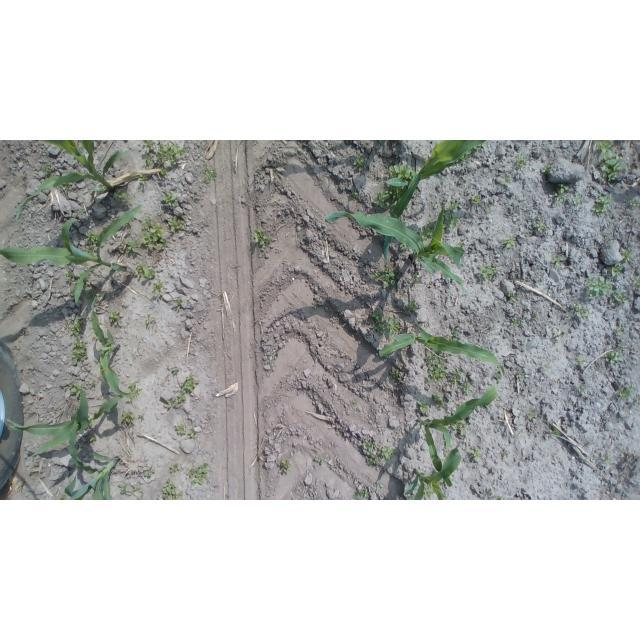Maize: (0, 205, 144, 304), (322, 203, 466, 293), (383, 140, 487, 264), (15, 141, 133, 222), (417, 383, 499, 486), (8, 389, 125, 459), (379, 325, 507, 379), (94, 297, 139, 398), (67, 419, 120, 500), (403, 449, 461, 500)
Weeds: (372, 186, 408, 211), (69, 316, 87, 365), (141, 218, 167, 251), (424, 349, 448, 384), (599, 152, 625, 184), (370, 310, 401, 336), (177, 372, 199, 404), (156, 143, 185, 166), (373, 264, 400, 288), (585, 275, 612, 297), (389, 165, 419, 180), (134, 261, 156, 281), (592, 196, 612, 217), (252, 227, 272, 248), (189, 463, 208, 485), (449, 419, 469, 437), (164, 484, 185, 501), (418, 220, 435, 241), (201, 164, 217, 185), (161, 192, 180, 209), (573, 300, 589, 320), (480, 264, 498, 281), (108, 310, 125, 328), (609, 289, 628, 305), (68, 380, 83, 400), (446, 367, 462, 385), (86, 289, 102, 307), (120, 412, 144, 424), (168, 216, 184, 233), (124, 238, 141, 254), (555, 184, 569, 203), (444, 215, 461, 230), (516, 152, 528, 173), (378, 445, 396, 459), (605, 352, 624, 365), (595, 140, 615, 152), (607, 263, 624, 277), (432, 393, 446, 409), (362, 438, 376, 454), (617, 386, 633, 400), (140, 141, 157, 154), (502, 235, 517, 249), (114, 190, 129, 204), (352, 489, 370, 500), (152, 281, 165, 296), (444, 202, 460, 214), (417, 400, 430, 414), (128, 381, 142, 394), (423, 484, 435, 499), (460, 381, 473, 394), (405, 301, 418, 314), (119, 484, 132, 497), (449, 328, 462, 341), (552, 254, 564, 268), (86, 232, 100, 244), (280, 460, 292, 473), (471, 447, 482, 461), (622, 249, 633, 263), (354, 157, 365, 171), (554, 328, 567, 339), (384, 152, 395, 165), (143, 155, 153, 169), (388, 371, 403, 380), (457, 154, 471, 163), (137, 175, 148, 186), (65, 268, 72, 285), (69, 284, 78, 297), (541, 164, 551, 175), (535, 221, 545, 232), (167, 397, 178, 407), (176, 424, 186, 435), (84, 246, 94, 257), (549, 427, 559, 438), (495, 371, 504, 383), (368, 456, 380, 465), (576, 355, 584, 368), (501, 175, 511, 185), (413, 272, 422, 283), (170, 464, 181, 473), (161, 168, 170, 179), (632, 276, 640, 288), (471, 196, 481, 205), (511, 318, 521, 327), (507, 292, 517, 301), (86, 436, 96, 445), (629, 199, 640, 207), (44, 164, 52, 175), (315, 456, 324, 465), (603, 456, 612, 465), (171, 300, 182, 307), (616, 328, 624, 337), (375, 482, 384, 490), (528, 412, 536, 421), (517, 371, 526, 379), (77, 271, 84, 281), (63, 182, 70, 192), (145, 317, 155, 324), (574, 196, 582, 204), (133, 484, 141, 492), (88, 380, 96, 388), (188, 429, 195, 437), (355, 317, 362, 325), (352, 400, 360, 407), (144, 471, 153, 477), (86, 276, 92, 285), (469, 148, 478, 154), (351, 191, 358, 198), (493, 496, 505, 500), (618, 343, 625, 349), (544, 365, 551, 371), (401, 243, 408, 249), (80, 140, 85, 148), (127, 396, 133, 402), (172, 368, 177, 375), (533, 312, 541, 316), (604, 235, 609, 241), (565, 312, 571, 317), (58, 496, 64, 501), (580, 388, 585, 394), (487, 208, 492, 214), (475, 144, 482, 148), (482, 141, 486, 148), (524, 236, 530, 240), (504, 451, 508, 457), (137, 497, 144, 500), (312, 304, 317, 308), (98, 171, 102, 176), (270, 356, 273, 361), (637, 398, 640, 403), (96, 140, 100, 142)
